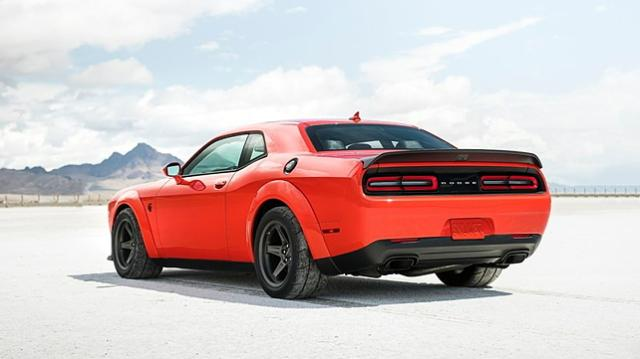dodge: (106, 111, 552, 300)
